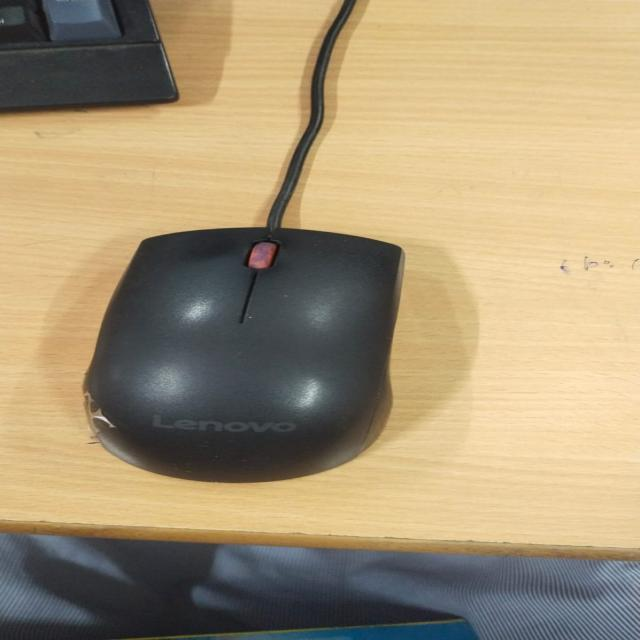Mouse: (89, 126, 448, 494)
